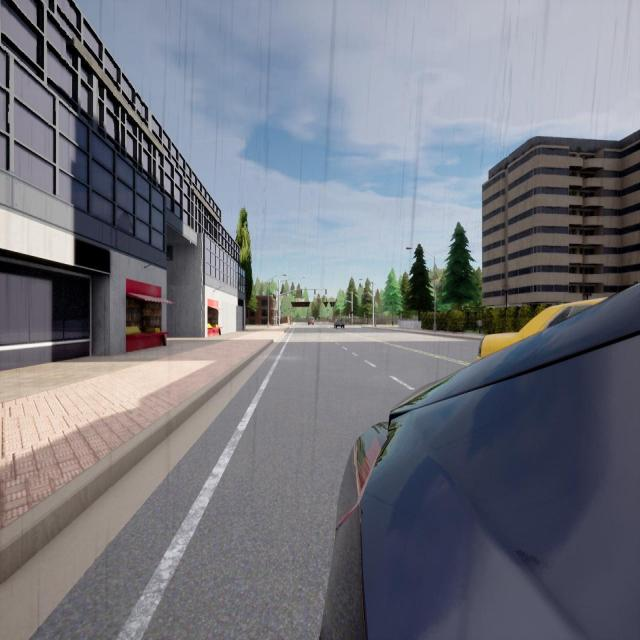Vehicle: (321, 284, 639, 638), (478, 298, 605, 359), (334, 321, 344, 328), (308, 318, 314, 326)
traffic_light: (314, 289, 316, 294), (351, 310, 353, 313), (318, 298, 319, 302), (301, 290, 302, 294), (327, 298, 327, 302), (336, 299, 336, 302), (326, 289, 326, 294)
